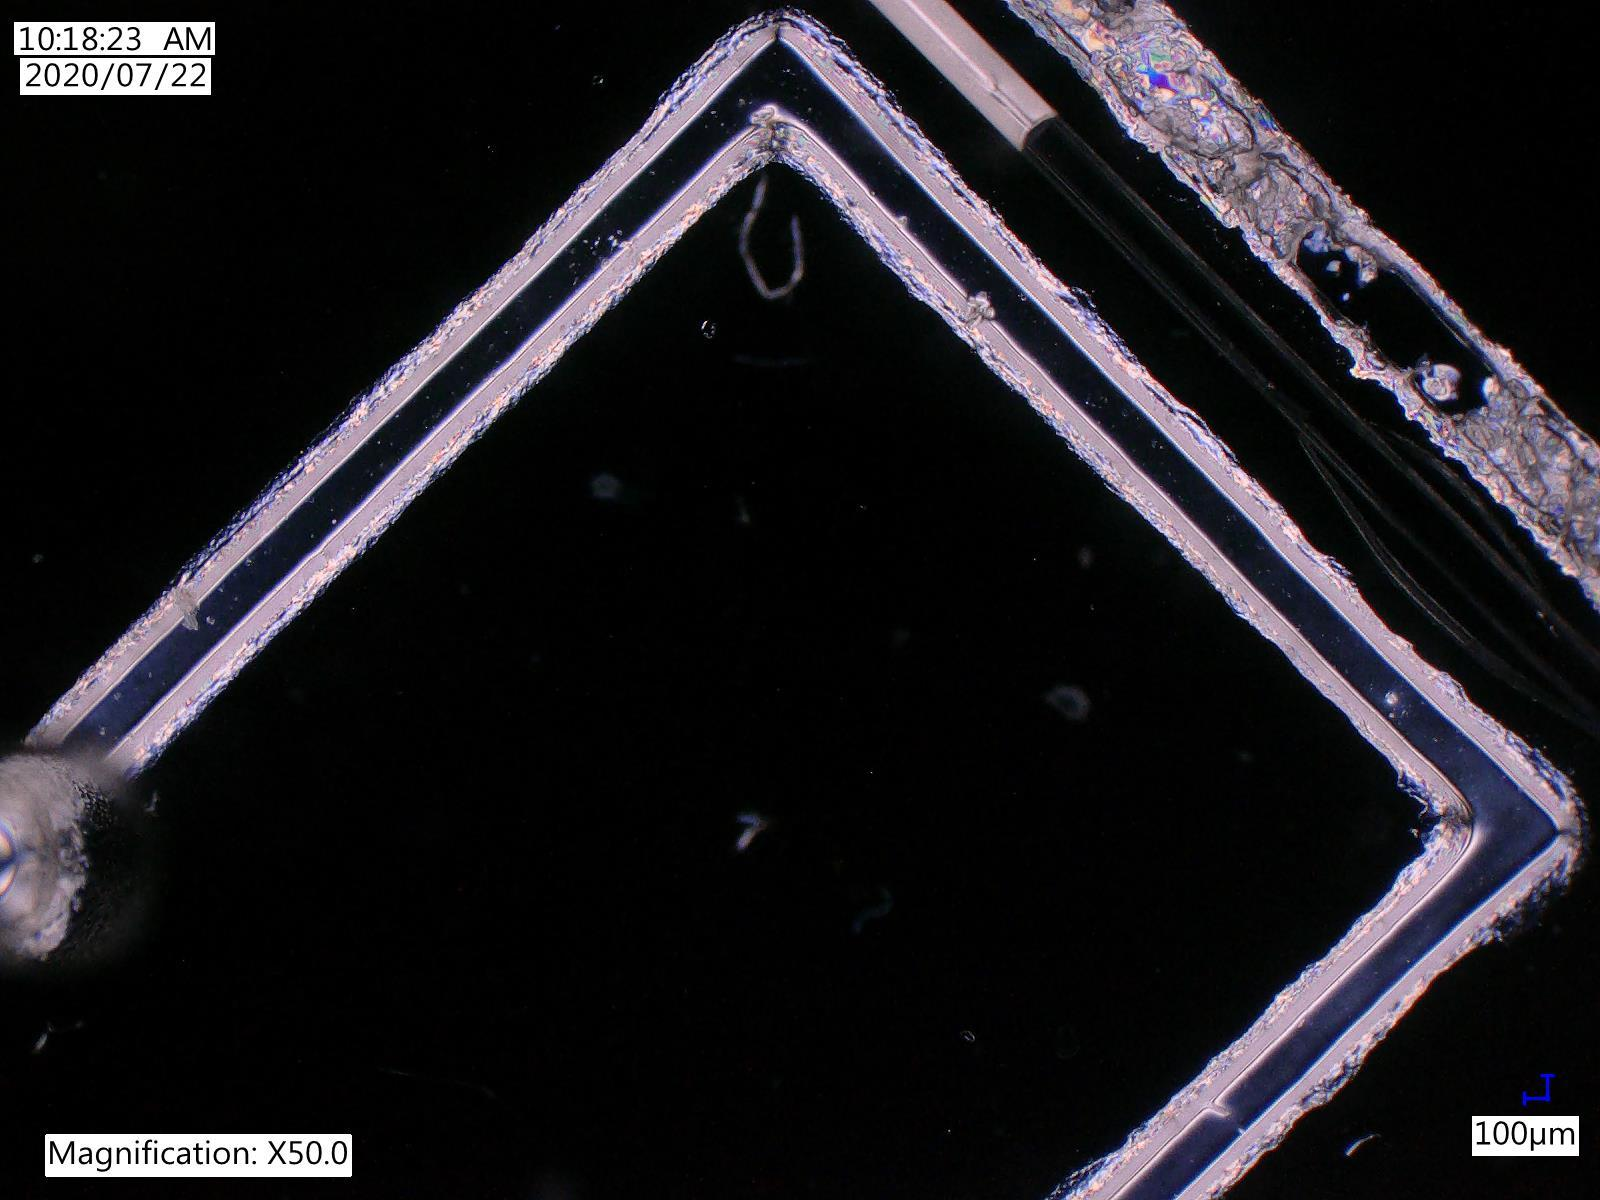sediment: (1141, 108, 1327, 243), (1483, 386, 1600, 550)
